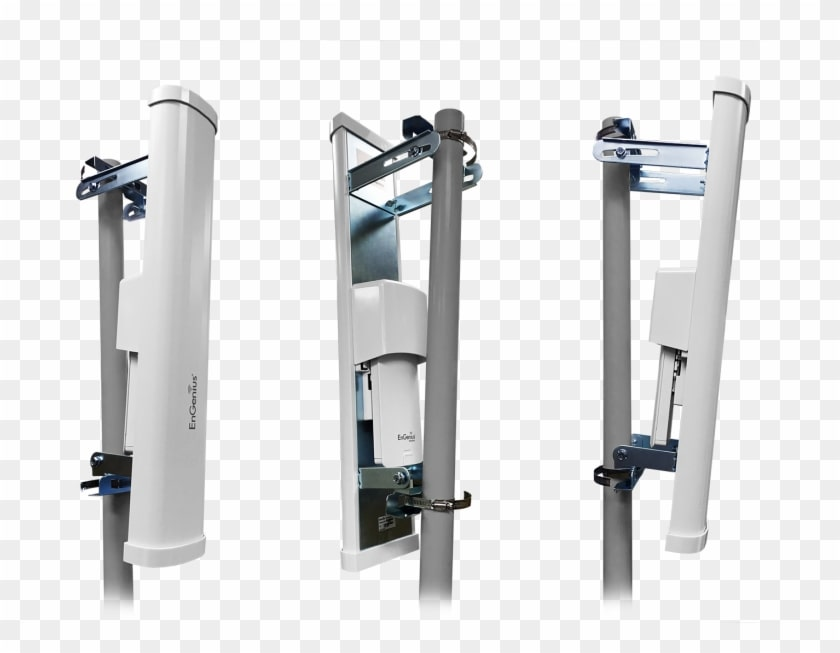sa: (303, 90, 490, 616), (568, 94, 756, 603), (95, 58, 234, 584)
